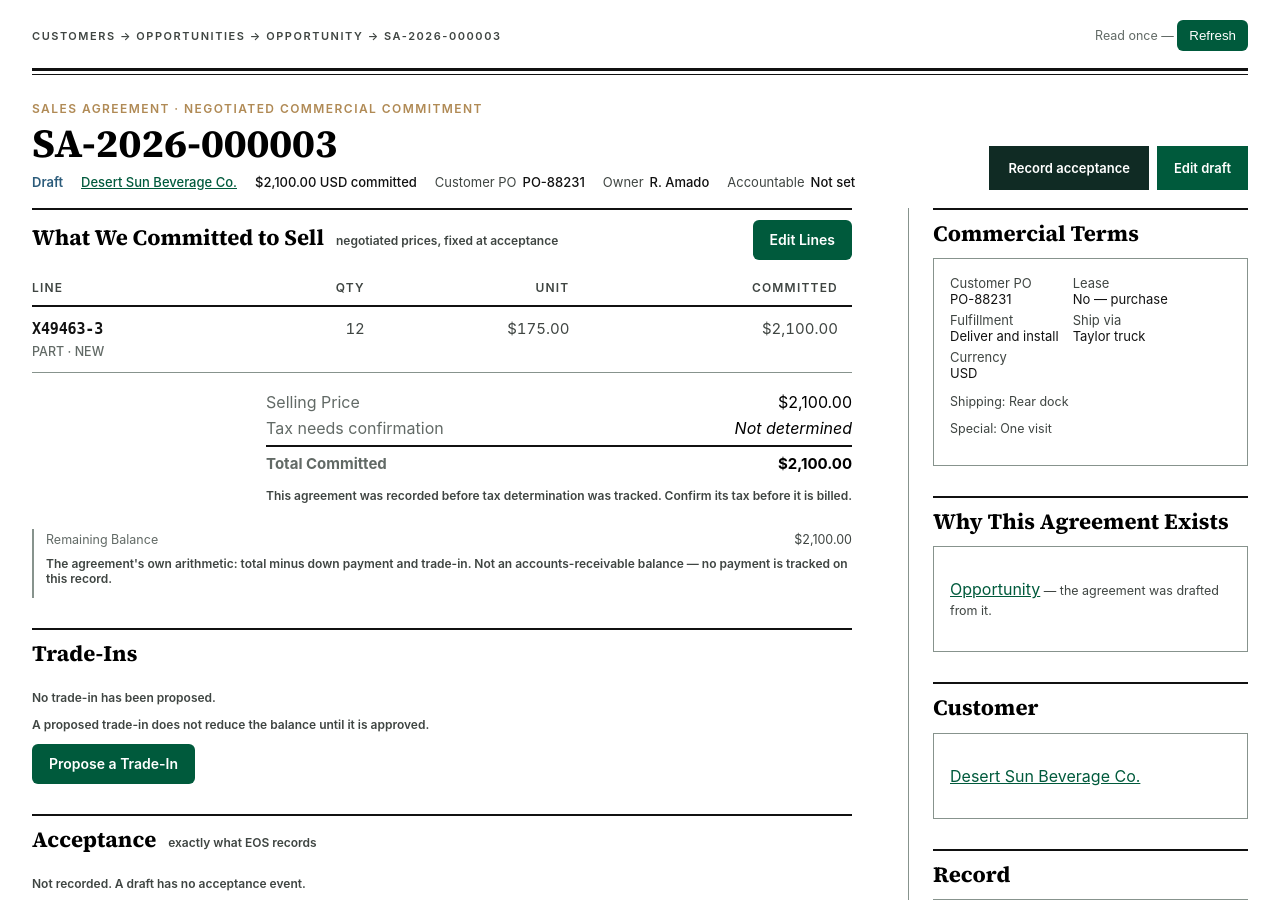
Scenario: SA-G7 — the agreement is priced from its own record › a malformed price is REFUSED client-side and never reaches the command
Click the button "Edit Lines" at x=802, y=240, box [752,220,852,260]
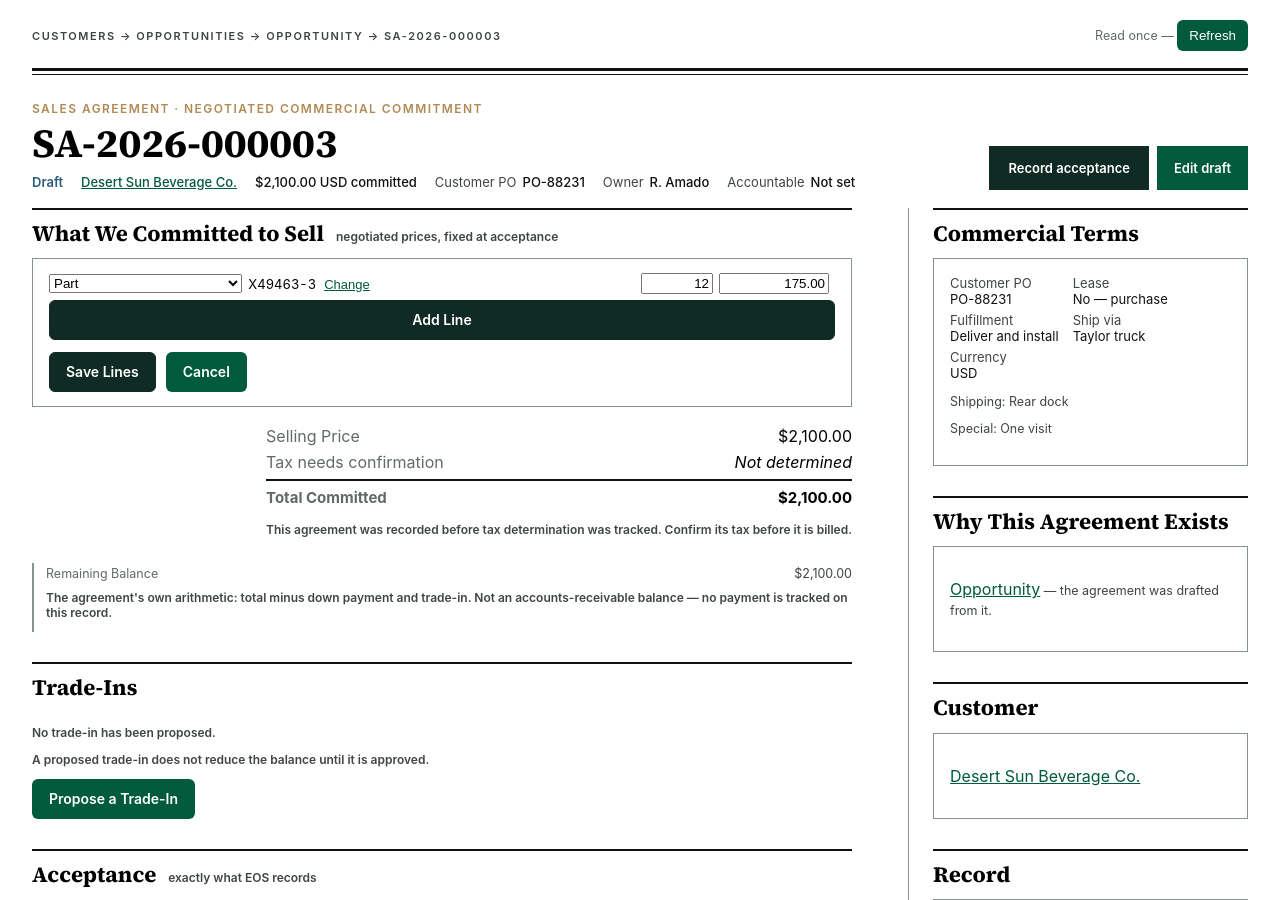
Replace the text in the field named "Line 1 unit price" with "twelve fifty" at x=774, y=284, box [719,273,829,294]
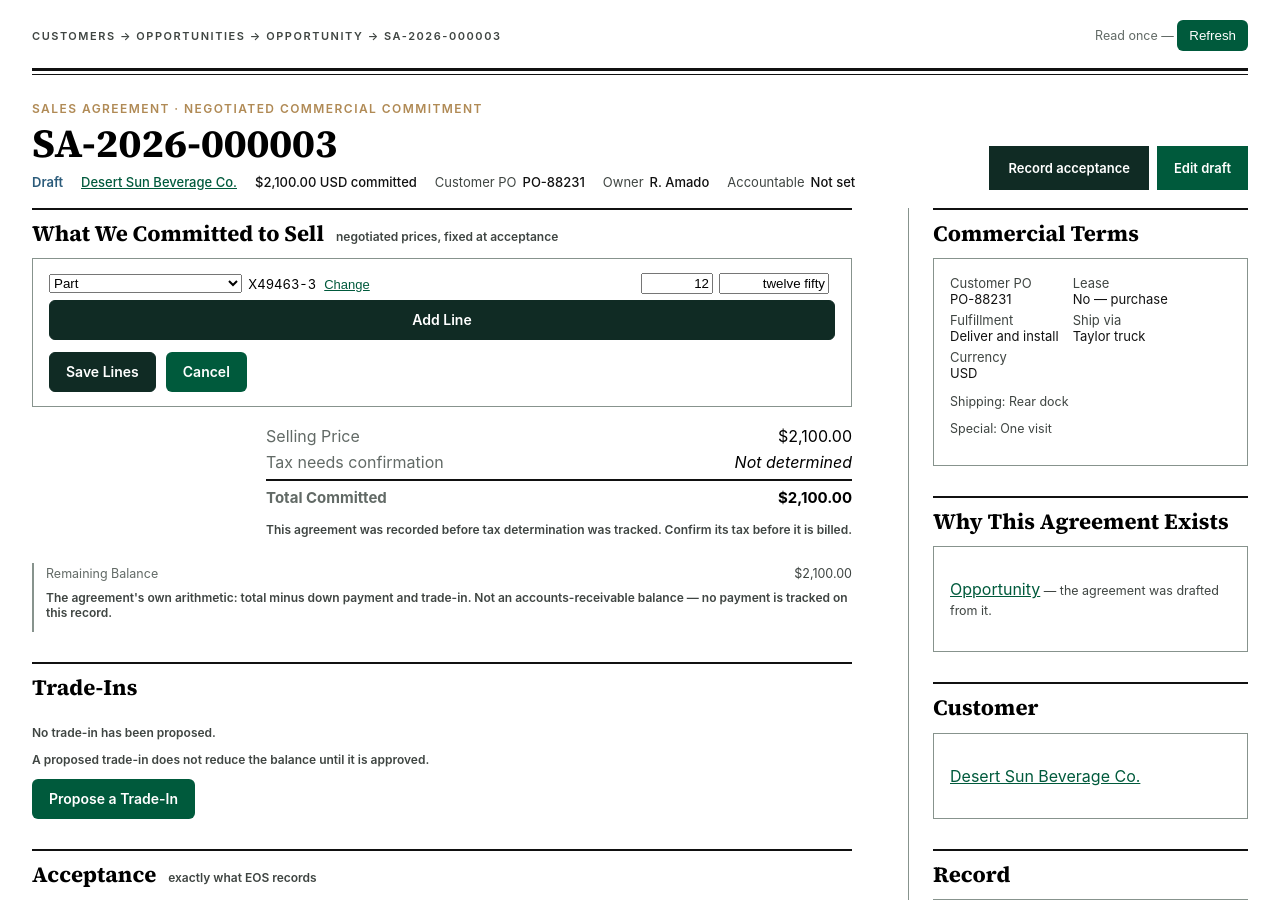
Click the button "Save Lines" at x=102, y=372, box [49,352,156,392]
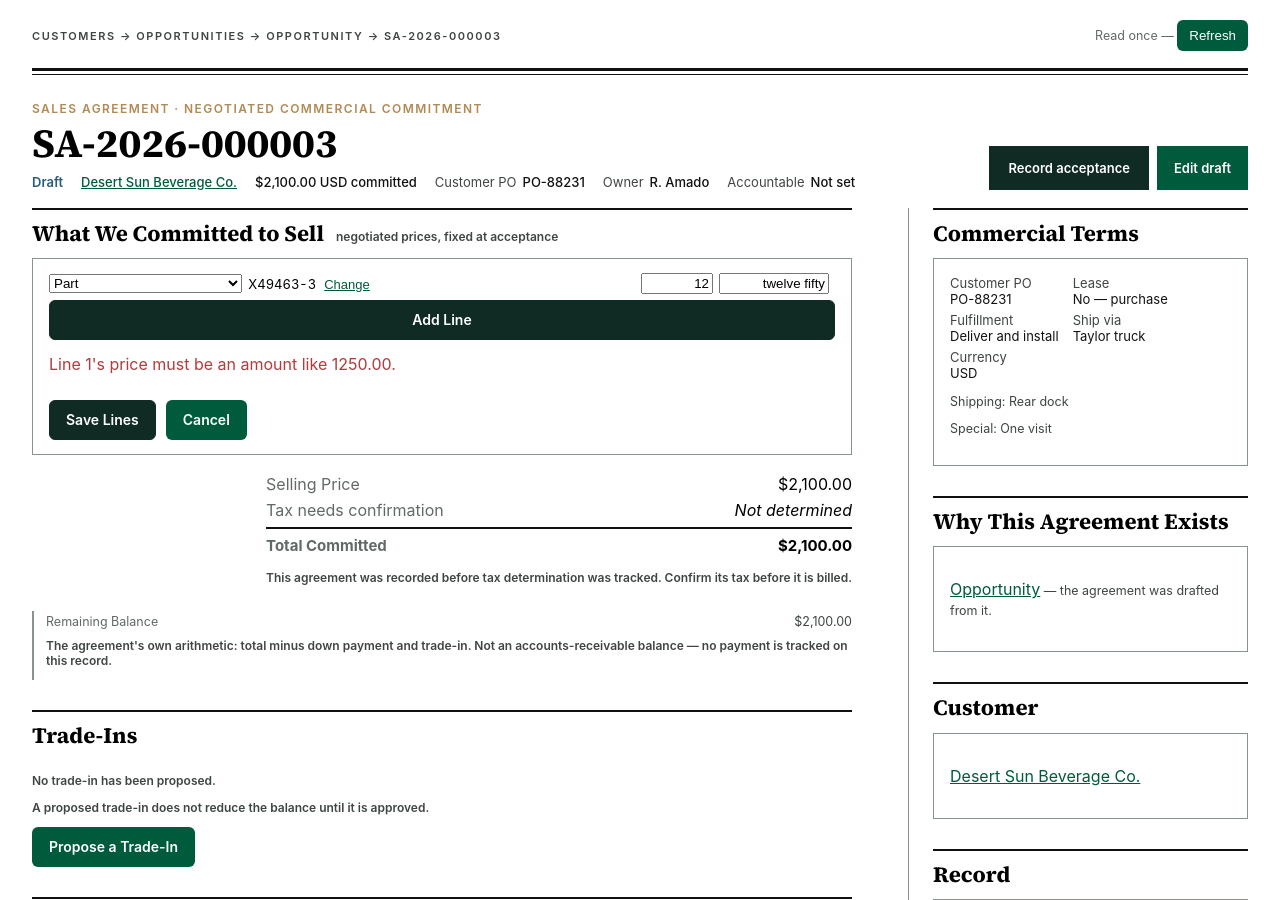
Expected: the message "Line 1's price must be an amount like 1250.00." is shown, [49,354,396,374]
